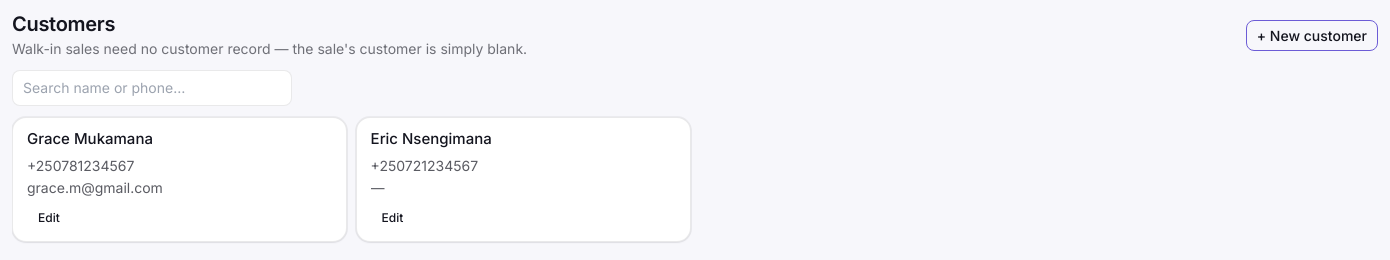
Test case: CustomersPageClient › filters by name or phone
Expected: the link "Grace Mukamana" is shown, left=27, top=129, right=153, bottom=148
Type "Eric" into the search field named "Search customers" at coordinates (152, 88), box left=12, top=70, right=292, bottom=106
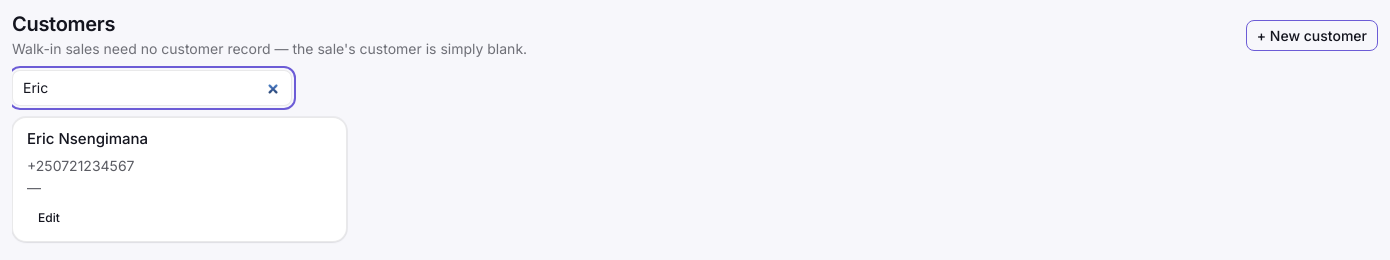
Expected: the link "Eric Nsengimana" is shown, left=27, top=129, right=148, bottom=148
Now the link "Grace Mukamana" is gone
